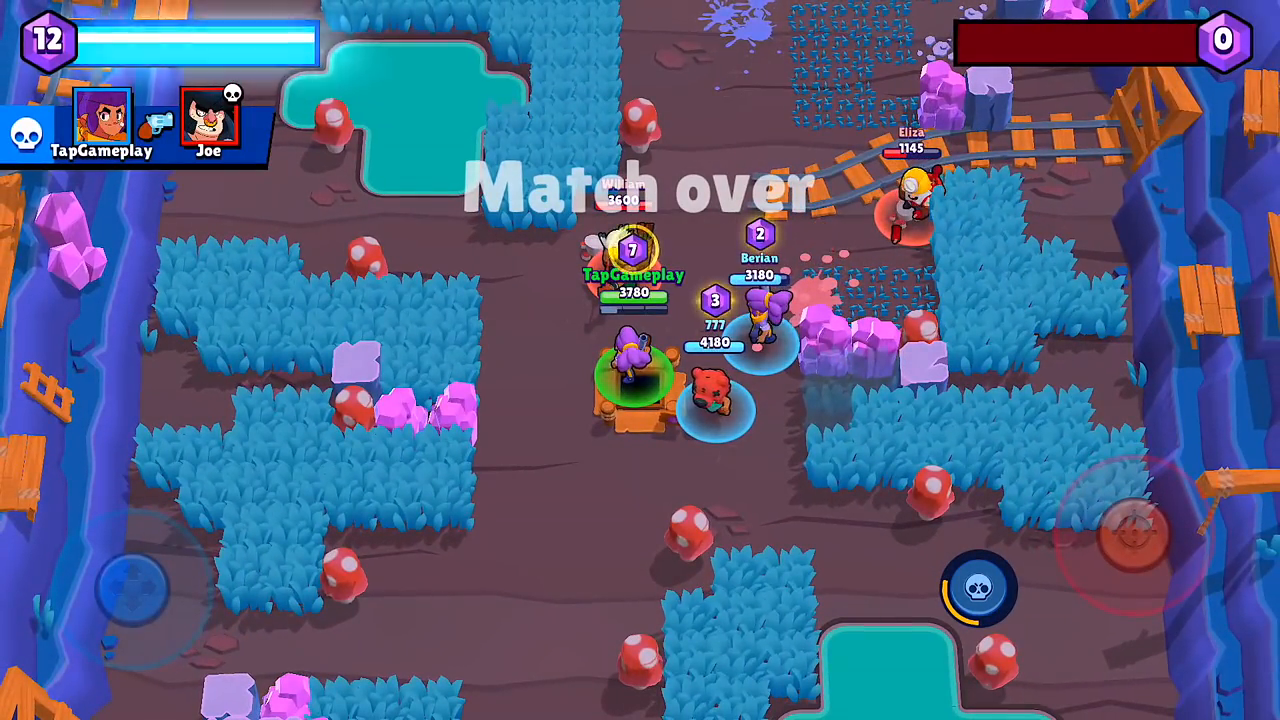move_stick: (92, 545, 180, 632)
red: (572, 189, 664, 297), (885, 145, 945, 259)
